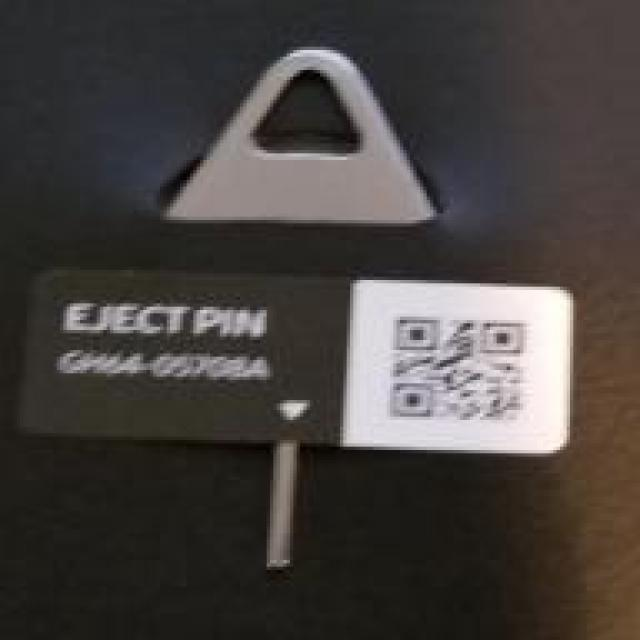qr_code: (389, 317, 529, 424)
